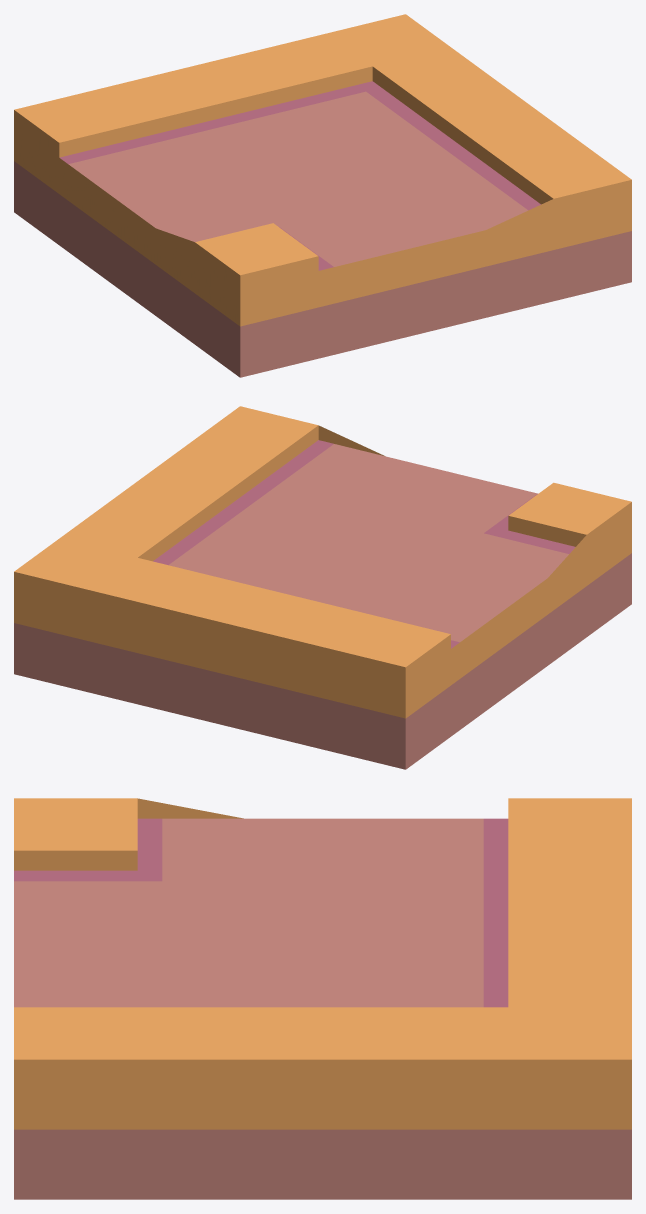
Rendered from Left.fbx.
3 renders of one model, top to bottom at view 1: azimuth 30°, elevation 25°; view 2: azimuth 150°, elevation 25°; view 3: azimuth 270°, elevation 25°, orthographic. The views are drawn at different scales.
Visible parts, largest first — view 1: Left; view 2: Left; view 3: Left.
Boxes of the visible parts, x1=… form: Left: x1=14, y1=14, x2=631, y2=377; Left: x1=14, y1=406, x2=631, y2=769; Left: x1=14, y1=798, x2=631, y2=1199.
Size of the model in its own units: 2 by 0.5 by 2.
